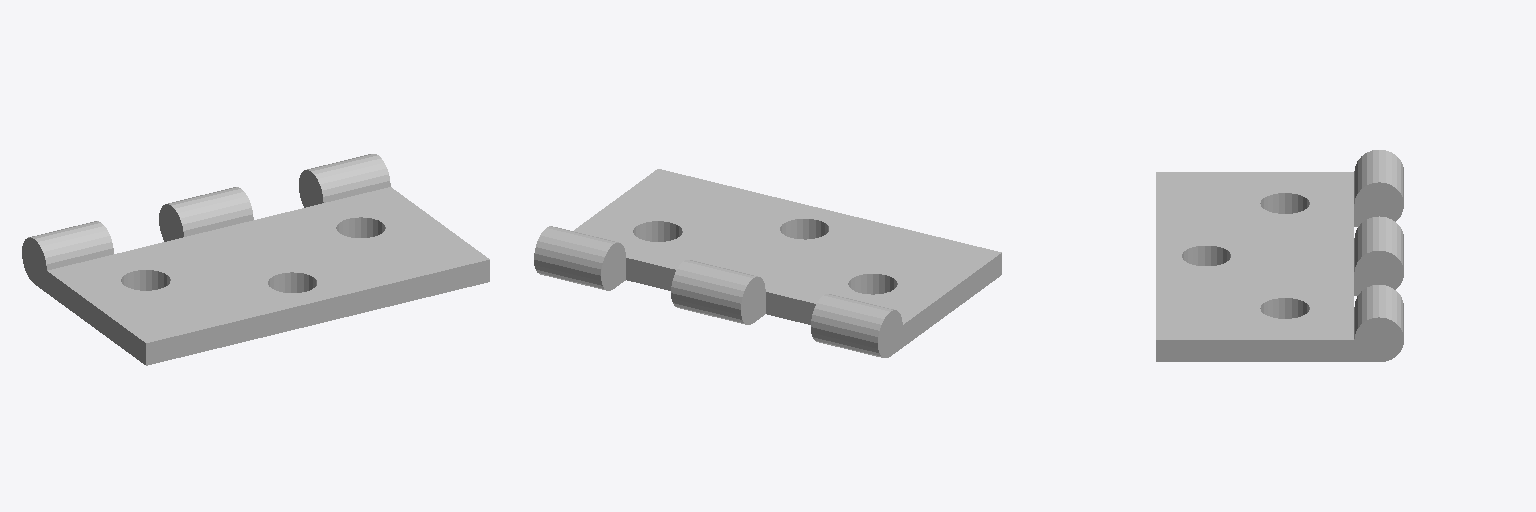
Rendered from original-81.obj.
3 renders of one model, left to right at view 1: azimuth 30°, elevation 25°; view 2: azimuth 150°, elevation 25°; view 3: azimuth 270°, elevation 25°, orthographic.
Visible parts, largest first — view 1: Group75/mesh113/mesh113-geometry#mesh113-geometry; view 2: Group75/mesh113/mesh113-geometry#mesh113-geometry; view 3: Group75/mesh113/mesh113-geometry#mesh113-geometry.
Part boxes in pixels (bbox=[...]): Group75/mesh113/mesh113-geometry#mesh113-geometry: bbox=[22, 154, 489, 365]; Group75/mesh113/mesh113-geometry#mesh113-geometry: bbox=[534, 169, 1001, 357]; Group75/mesh113/mesh113-geometry#mesh113-geometry: bbox=[1156, 150, 1403, 361].
Bounding box in the file's own units: 0.0788 × 0.0099 × 0.0493.